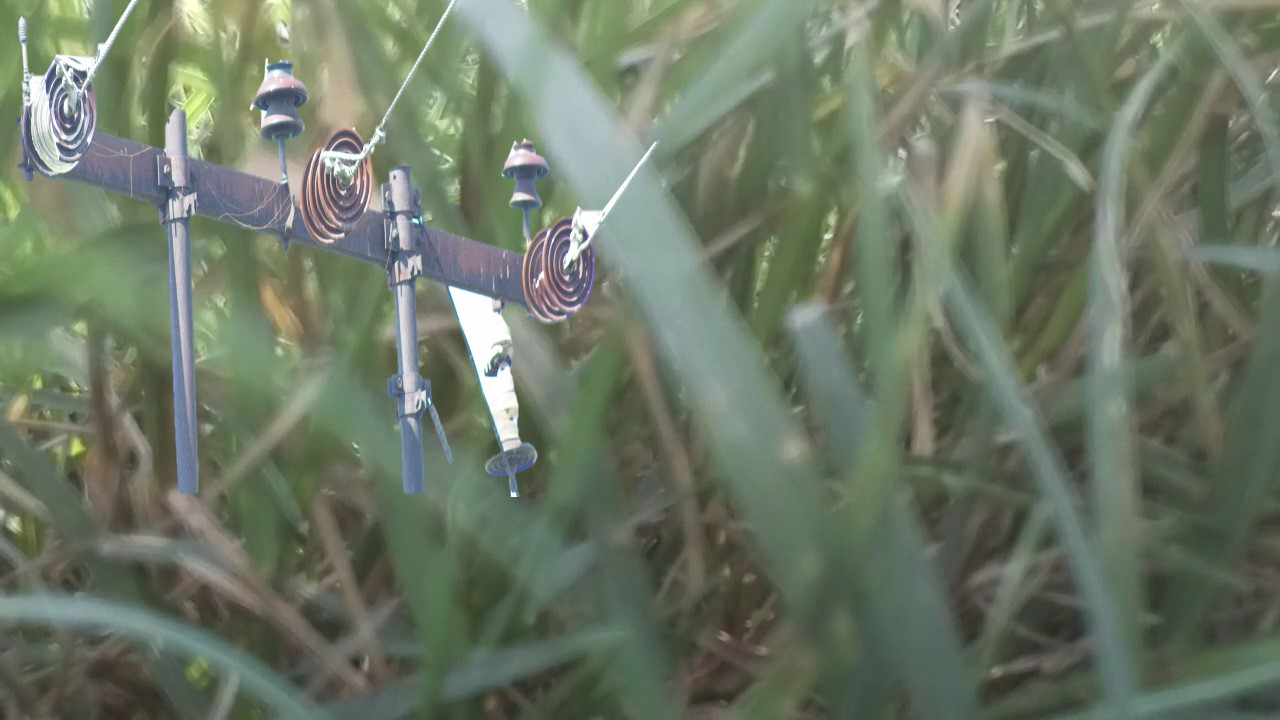defect_disc: (44, 50, 99, 166)
insulator_disc: (312, 124, 378, 232), (540, 212, 599, 310)
